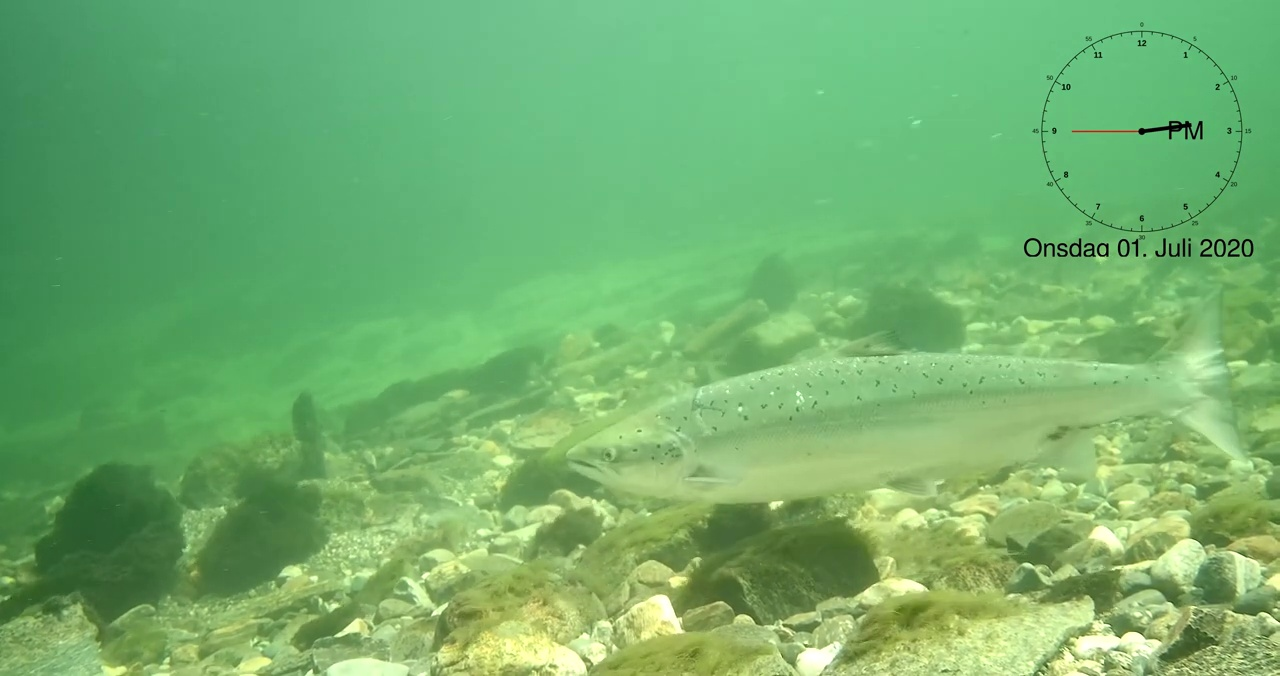salmon: (565, 279, 1261, 508)
